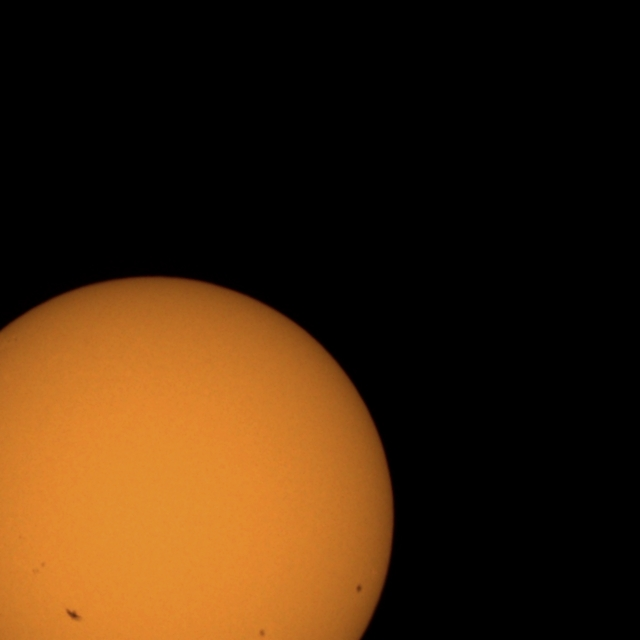sunspot: (65, 607, 83, 623), (31, 560, 46, 576), (258, 628, 267, 640), (355, 582, 364, 594)
